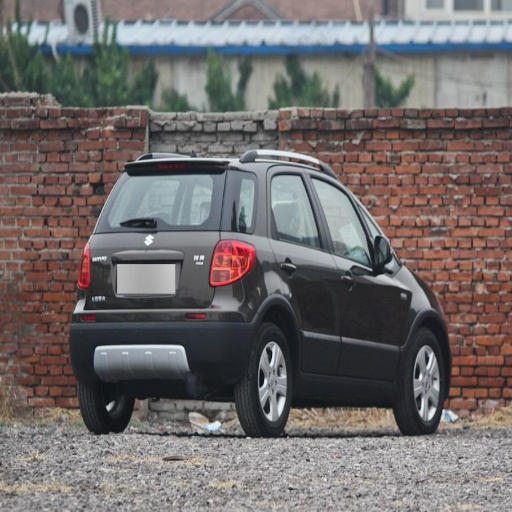back_bumper: (74, 281, 256, 389)
back_right_door: (262, 163, 340, 378)
trunk: (80, 234, 218, 333)
